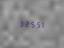five: (28, 19, 32, 28), (33, 20, 37, 28)
one: (38, 20, 42, 28)
three: (18, 19, 22, 27)
two: (23, 19, 27, 27)
